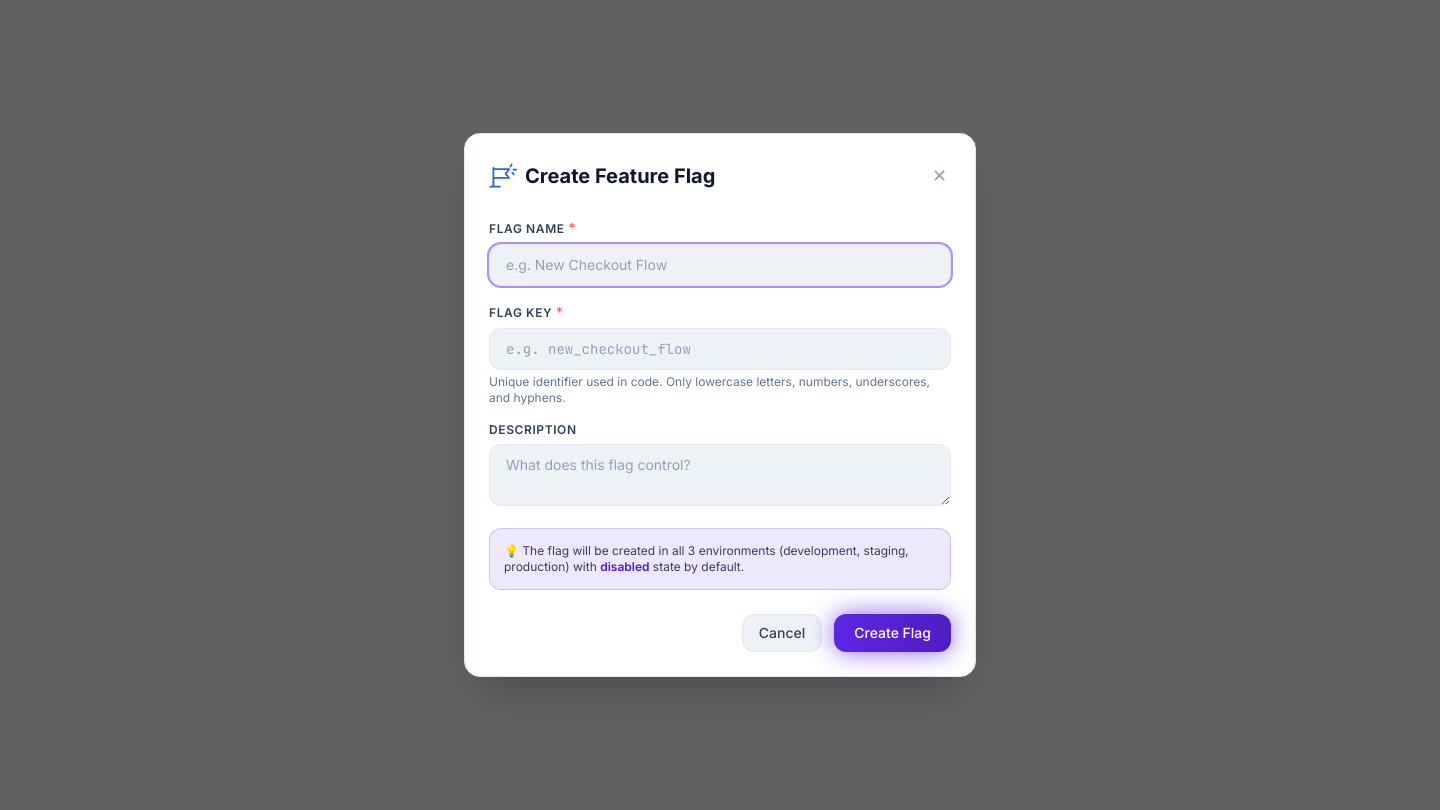
Scenario: CreateFlagModal › clears required key validation when the name generates a key
The width and height of the screenshot is (1440, 810).
Click the button "Create Flag": [893, 633] box [834, 614, 951, 652]
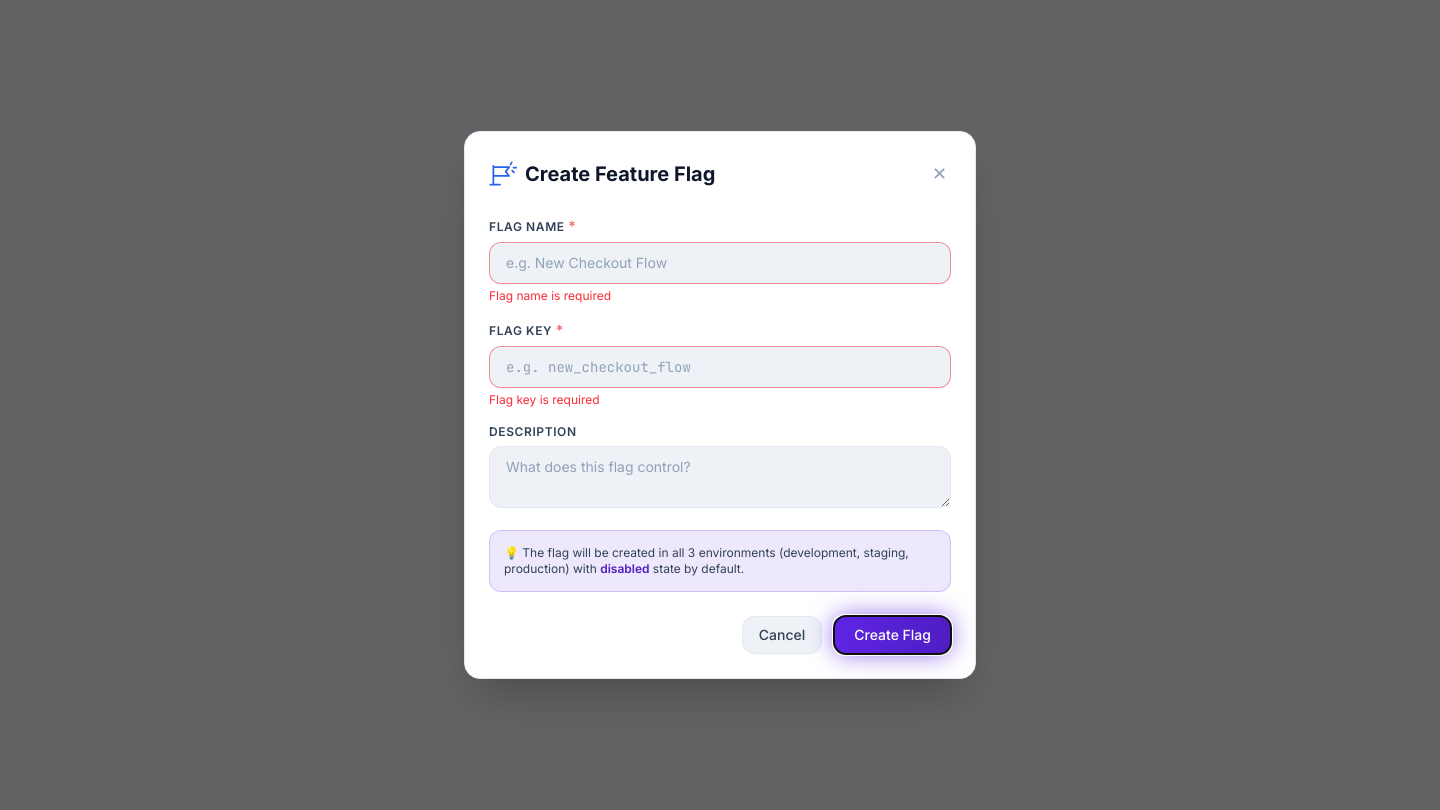
In the field labelled "Flag Name *": [720, 263] box [489, 242, 951, 284], type "test_flag"
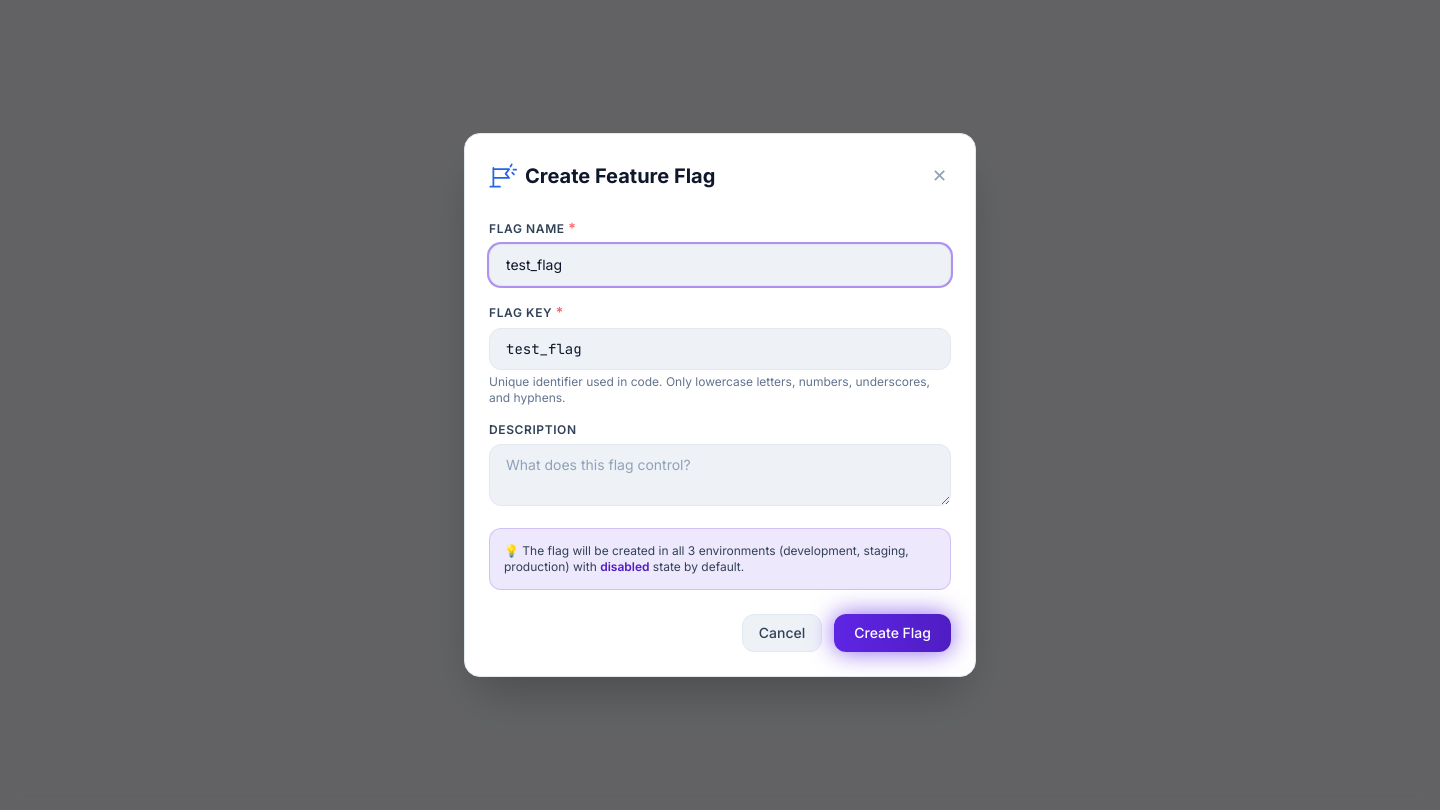
Result: the text "Flag key is required" is gone
